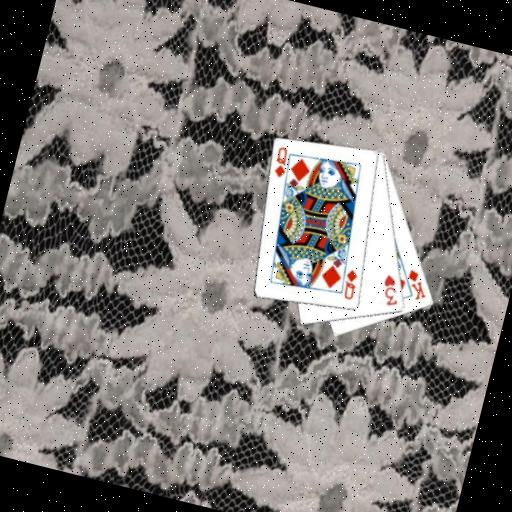3H: (376, 271, 406, 310)
KD: (400, 265, 434, 303)
QD: (269, 142, 293, 180), (338, 266, 362, 303)
